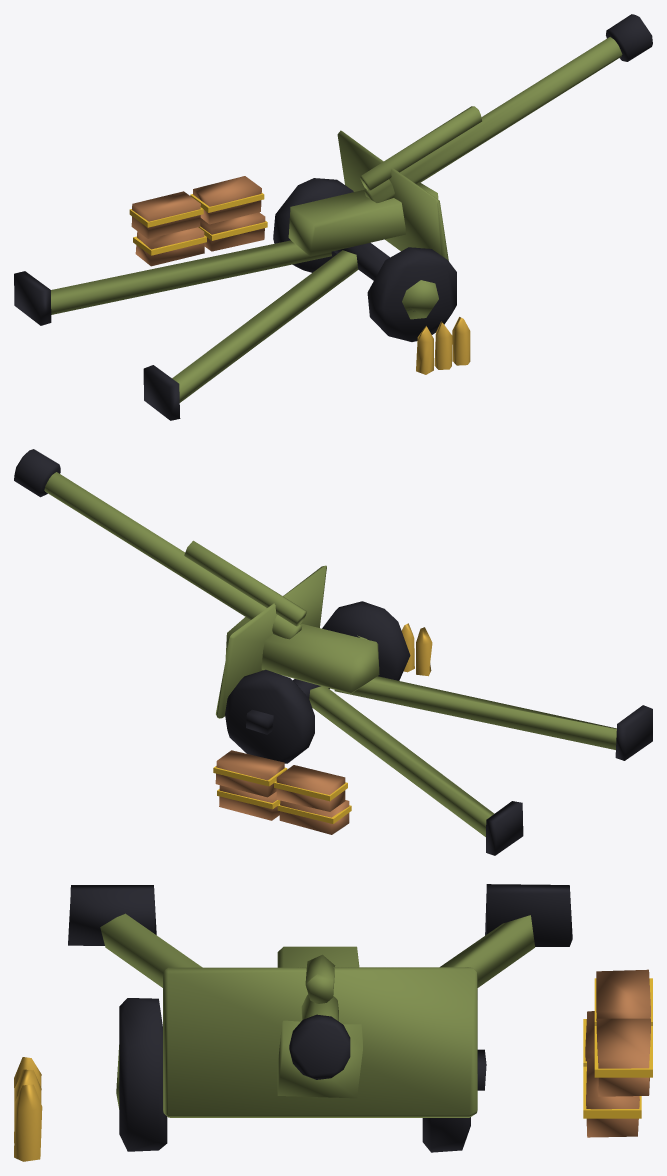
The model's file is howitzer.glb.
3 views of the same model, one above another, from view 1: azimuth 30°, elevation 25°; view 2: azimuth 150°, elevation 25°; view 3: azimuth 270°, elevation 25° (orthographic). The views are drawn at different scales.
Visible parts, largest first — view 1: howitzer.001, barrel.018; view 2: howitzer.001, barrel.018; view 3: howitzer.001, barrel.018.
Boxes of the visible parts, left/top/right/bottom form: howitzer.001: left=14, top=130, right=470, bottom=420; barrel.018: left=360, top=14, right=652, bottom=202; howitzer.001: left=213, top=565, right=652, bottom=855; barrel.018: left=14, top=449, right=306, bottom=639; howitzer.001: left=14, top=884, right=652, bottom=1161; barrel.018: left=289, top=954, right=350, bottom=1079.
Size of the model in its own units: 9.17 by 3.39 by 5.69.
Materials: 1 (1 with a texture image).
